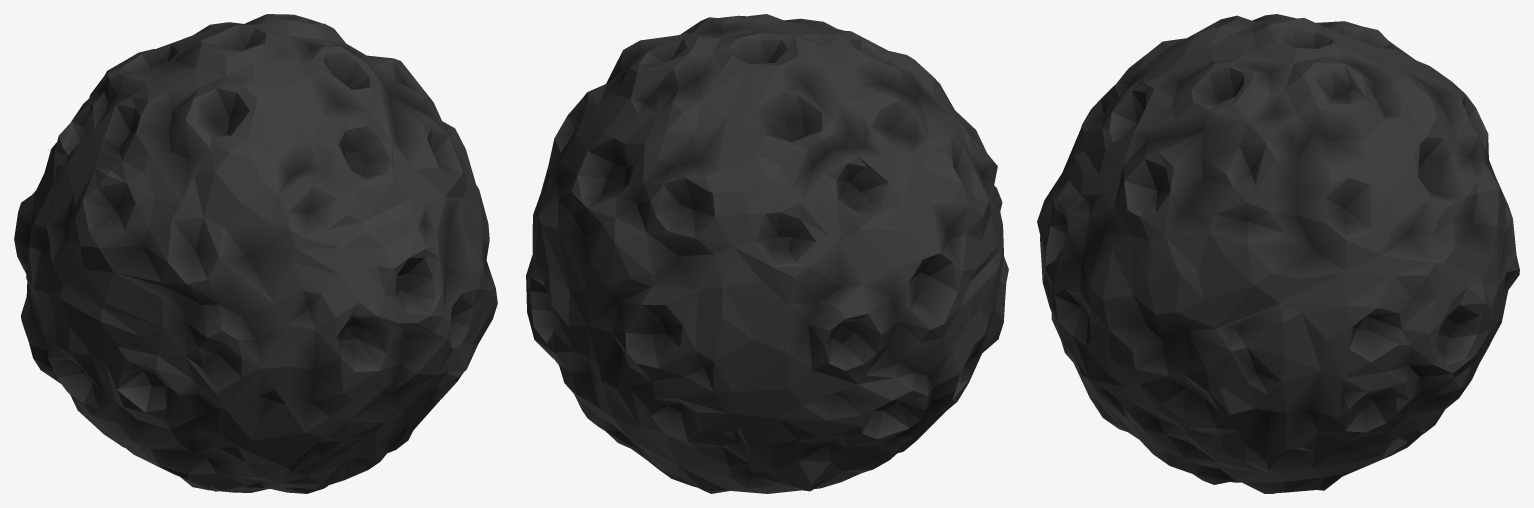
The model's file is rock_planet.fbx.
The picture shows the model from 3 angles, left to right: view 1: azimuth 30°, elevation 25°; view 2: azimuth 150°, elevation 25°; view 3: azimuth 270°, elevation 25°; orthographic projection. The views are drawn at different scales.
Visible parts, largest first — view 1: rock_planet; view 2: rock_planet; view 3: rock_planet.
Part boxes in pixels (<box>): rock_planet: <box>14,14,497,493</box>; rock_planet: <box>526,14,1008,493</box>; rock_planet: <box>1037,14,1519,493</box>.
Bounding box in the file's own units: 2.01 × 2.04 × 2.08.
1 material, 1 textured.
